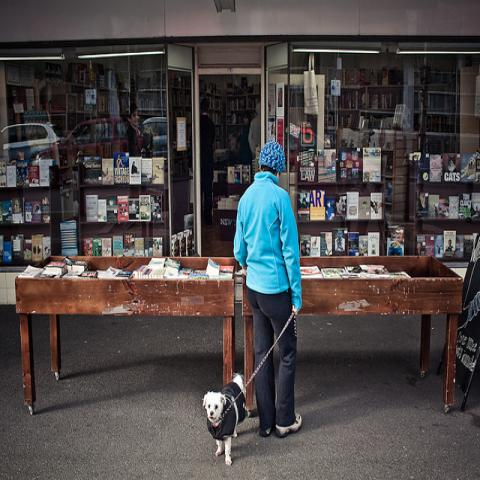car: (58, 116, 129, 166), (1, 122, 64, 160), (142, 116, 168, 157)
